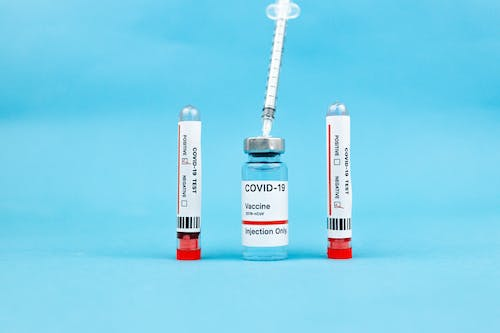blood: (176, 232, 201, 239)
